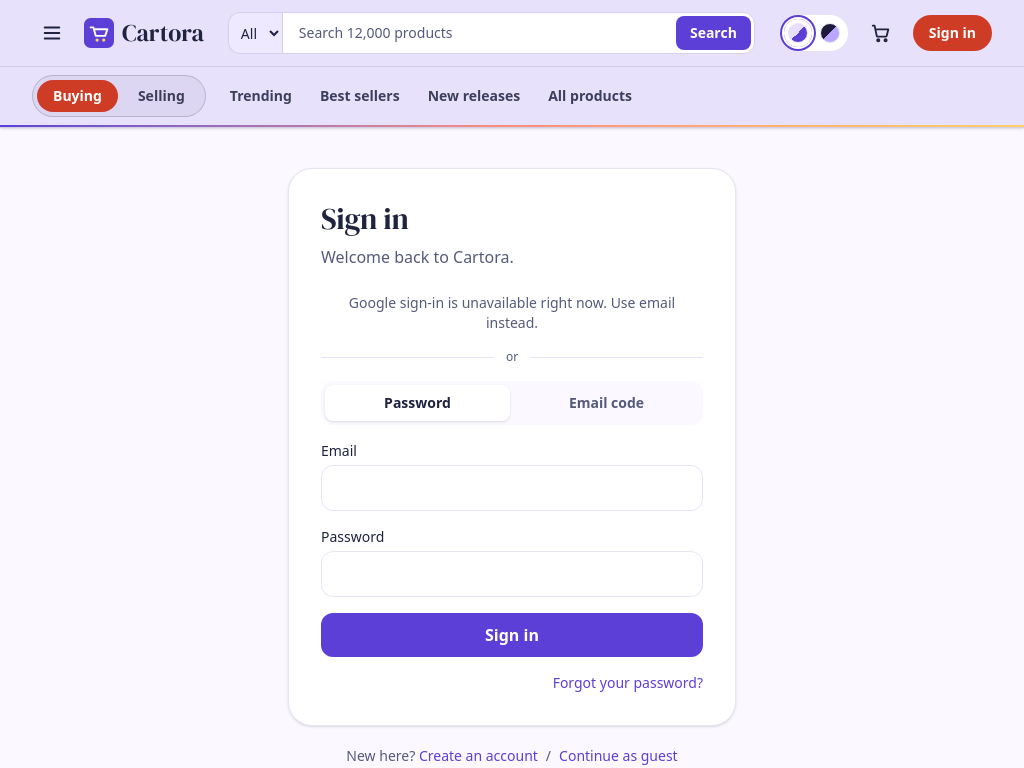
it: sign in with a password › shows the server message for a wrong password and keeps the form
The width and height of the screenshot is (1024, 768).
Type "asha@example.com" into the field labelled "Email" at coordinates (512, 488), box [321,465,703,511]
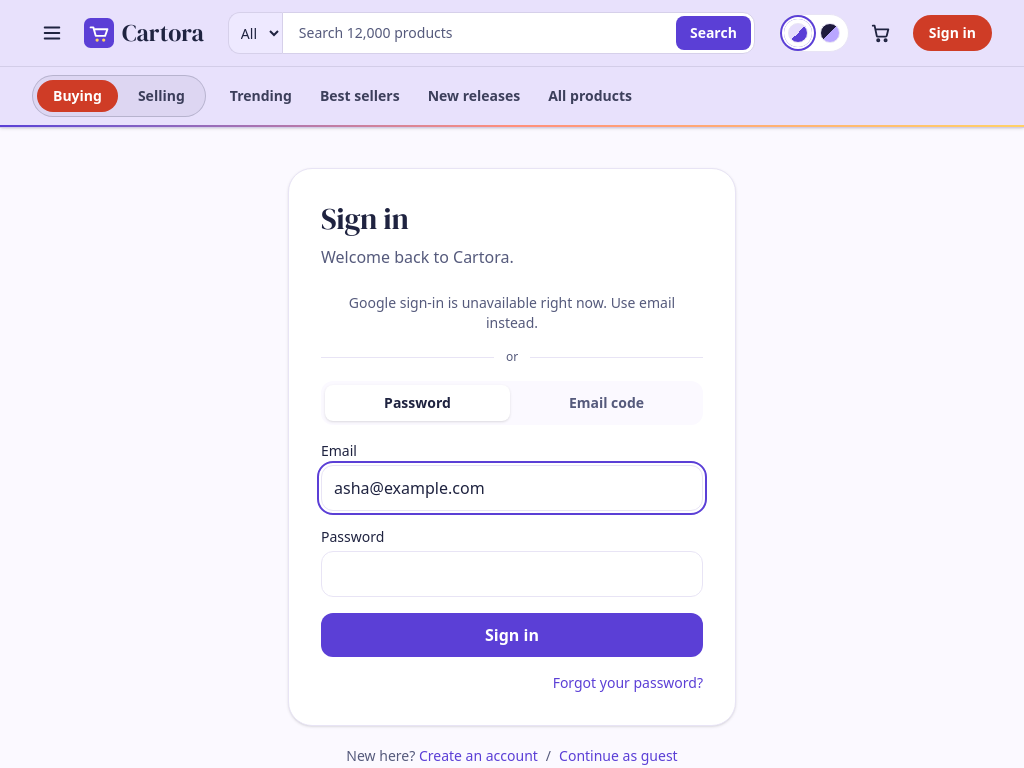
Type "wrong-password" into the password field labelled "Password" at coordinates (512, 574), box [321,551,703,597]
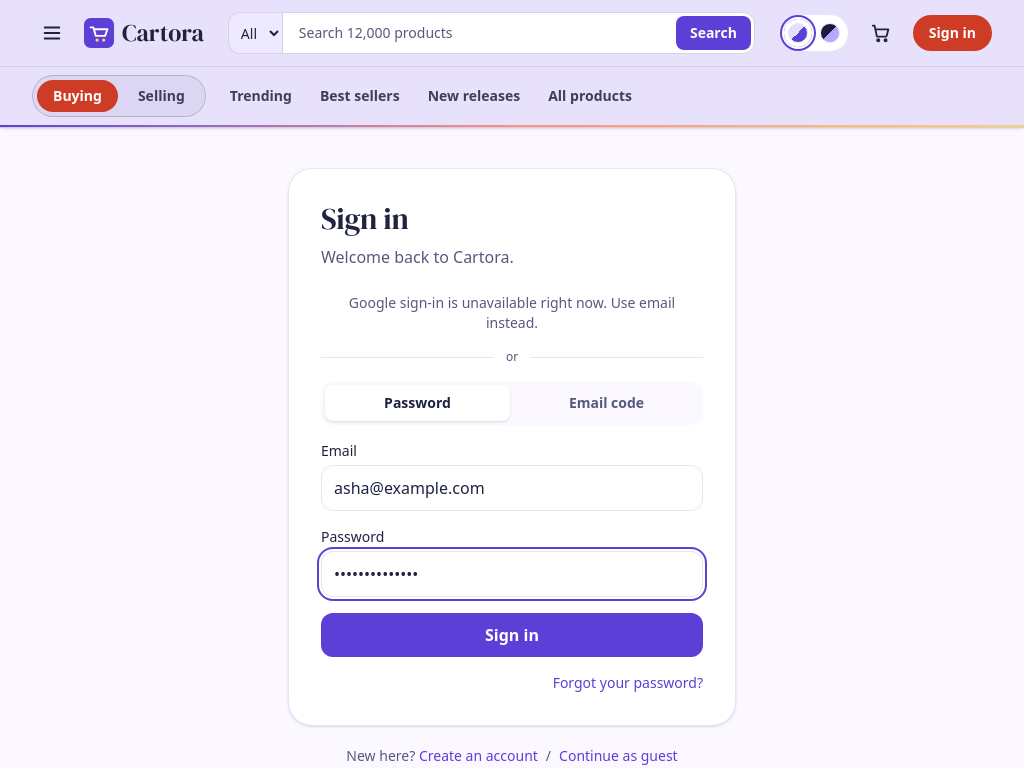
Click the button "Sign in" at coordinates (512, 635), box [321,613,703,657]
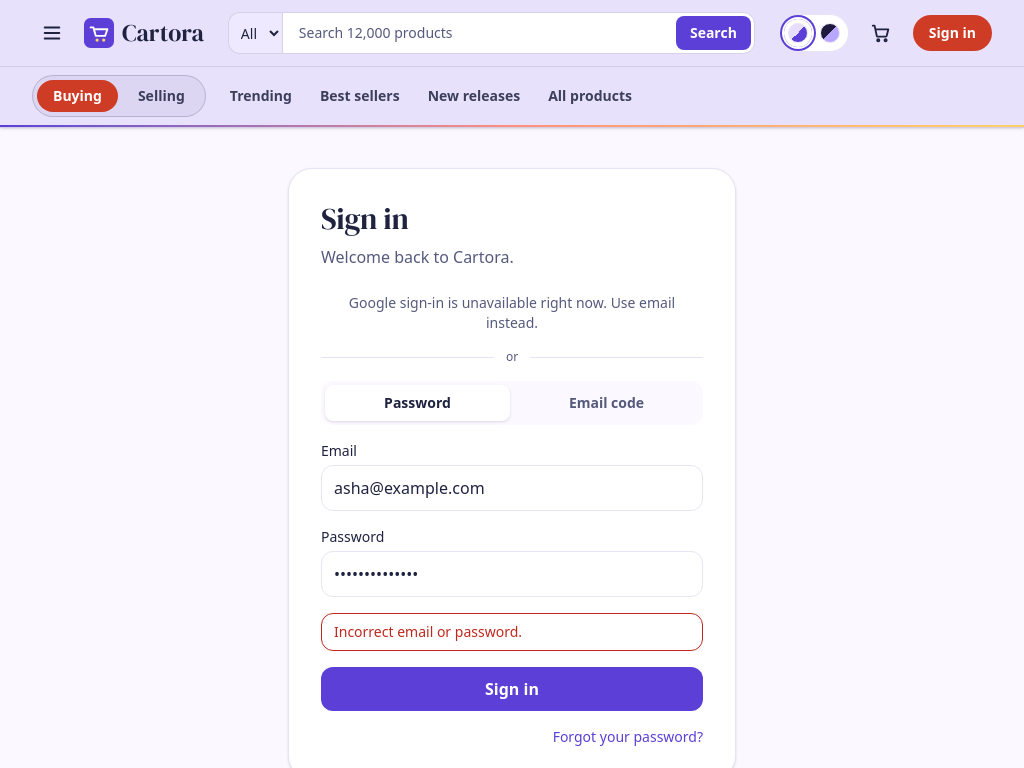
Expected: the message reads "Incorrect email or password.", [334,622,522,641]
